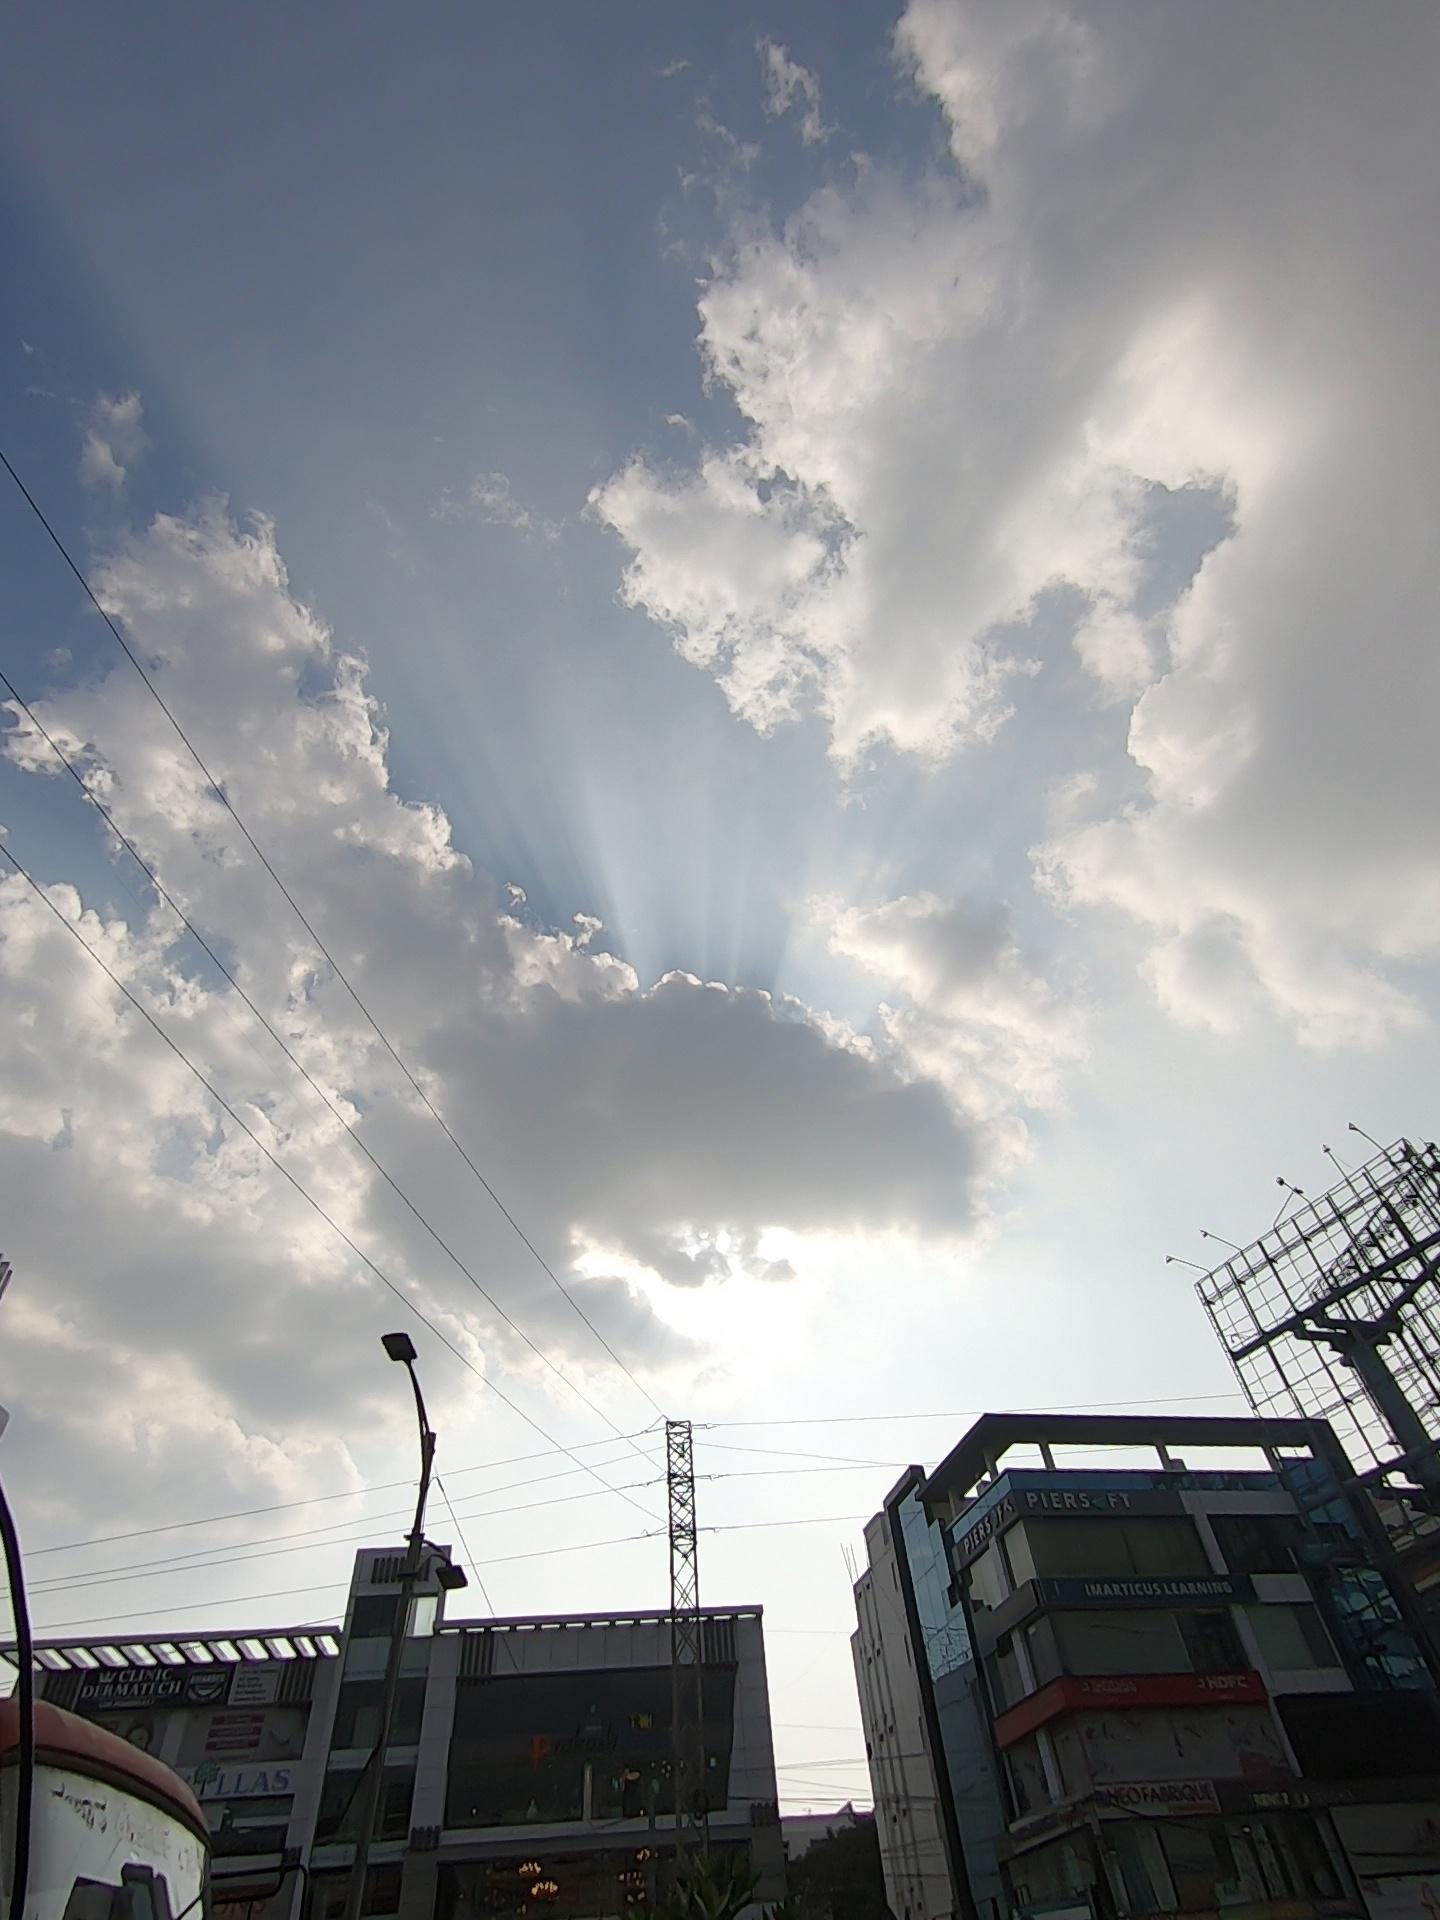off: (334, 1306, 591, 1616)
